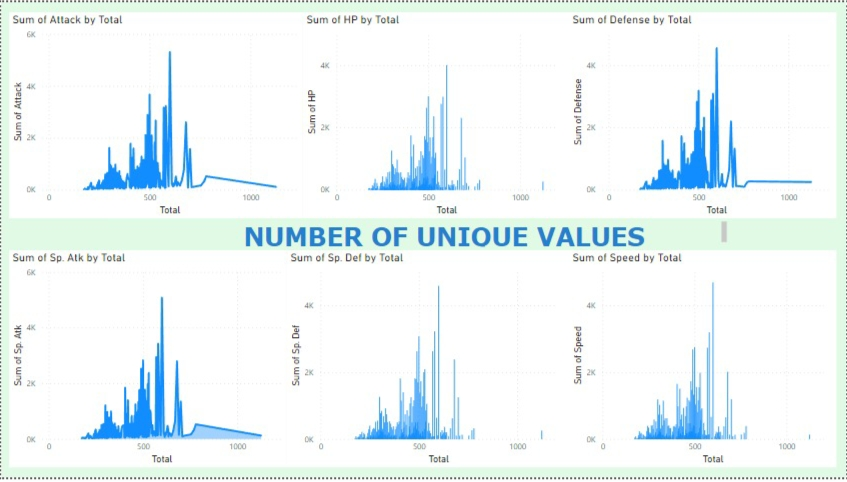

Layout of this report page (visuals, bound fields, positions):
{"tool":"powerbi","page":{"name":"Page 4","canvas":[1280,720],"ordinal":3},"visuals":[{"type":"shape","box":[97.1,22.6,336.7,304.8],"z":0},{"type":"textbox","box":[265.4,344.5,838.6,31.1],"z":12},{"type":"lineChart","fields":{"Category":["pokemon.Total"],"Y":["Sum(pokemon.Attack)"]},"box":[12.7,15.5,444.7,312],"z":13},{"type":"lineChart","fields":{"Category":["pokemon.Total"],"Y":["Sum(pokemon.Defense)"]},"box":[861.2,15.5,405.2,312],"z":15},{"type":"areaChart","fields":{"Y":["Sum(pokemon.Sp. Atk)"],"Category":["pokemon.Total"]},"box":[12.7,375.5,420.7,328.9],"z":18},{"type":"lineStackedColumnComboChart","fields":{"Y":["Sum(pokemon.Sp. Def)"],"Category":["pokemon.Total"]},"box":[433.4,375.5,427.8,328.9],"z":19},{"type":"lineClusteredColumnComboChart","fields":{"Y":["Sum(pokemon.Speed)"],"Category":["pokemon.Total"]},"box":[861.2,375.5,405.2,328.9],"z":20},{"type":"columnChart","fields":{"Y":["Sum(pokemon.HP)"],"Category":["pokemon.Total"]},"box":[457.4,15.5,403.8,312],"z":21}]}

Visuals, with their boxes in screenshot pixels (x1, y1, x2, y2), scaled from the page's 1280x720 canvas onto the 847x482 screenshot:
shape: l=64, t=15, r=287, b=219
textbox: l=176, t=231, r=731, b=251
lineChart - pokemon.Total x Sum(pokemon.Attack): l=8, t=10, r=303, b=219
lineChart - pokemon.Total x Sum(pokemon.Defense): l=570, t=10, r=838, b=219
areaChart - Sum(pokemon.Sp. Atk) x pokemon.Total: l=8, t=251, r=287, b=472
lineStackedColumnComboChart - Sum(pokemon.Sp. Def) x pokemon.Total: l=287, t=251, r=570, b=472
lineClusteredColumnComboChart - Sum(pokemon.Speed) x pokemon.Total: l=570, t=251, r=838, b=472
columnChart - Sum(pokemon.HP) x pokemon.Total: l=303, t=10, r=570, b=219
